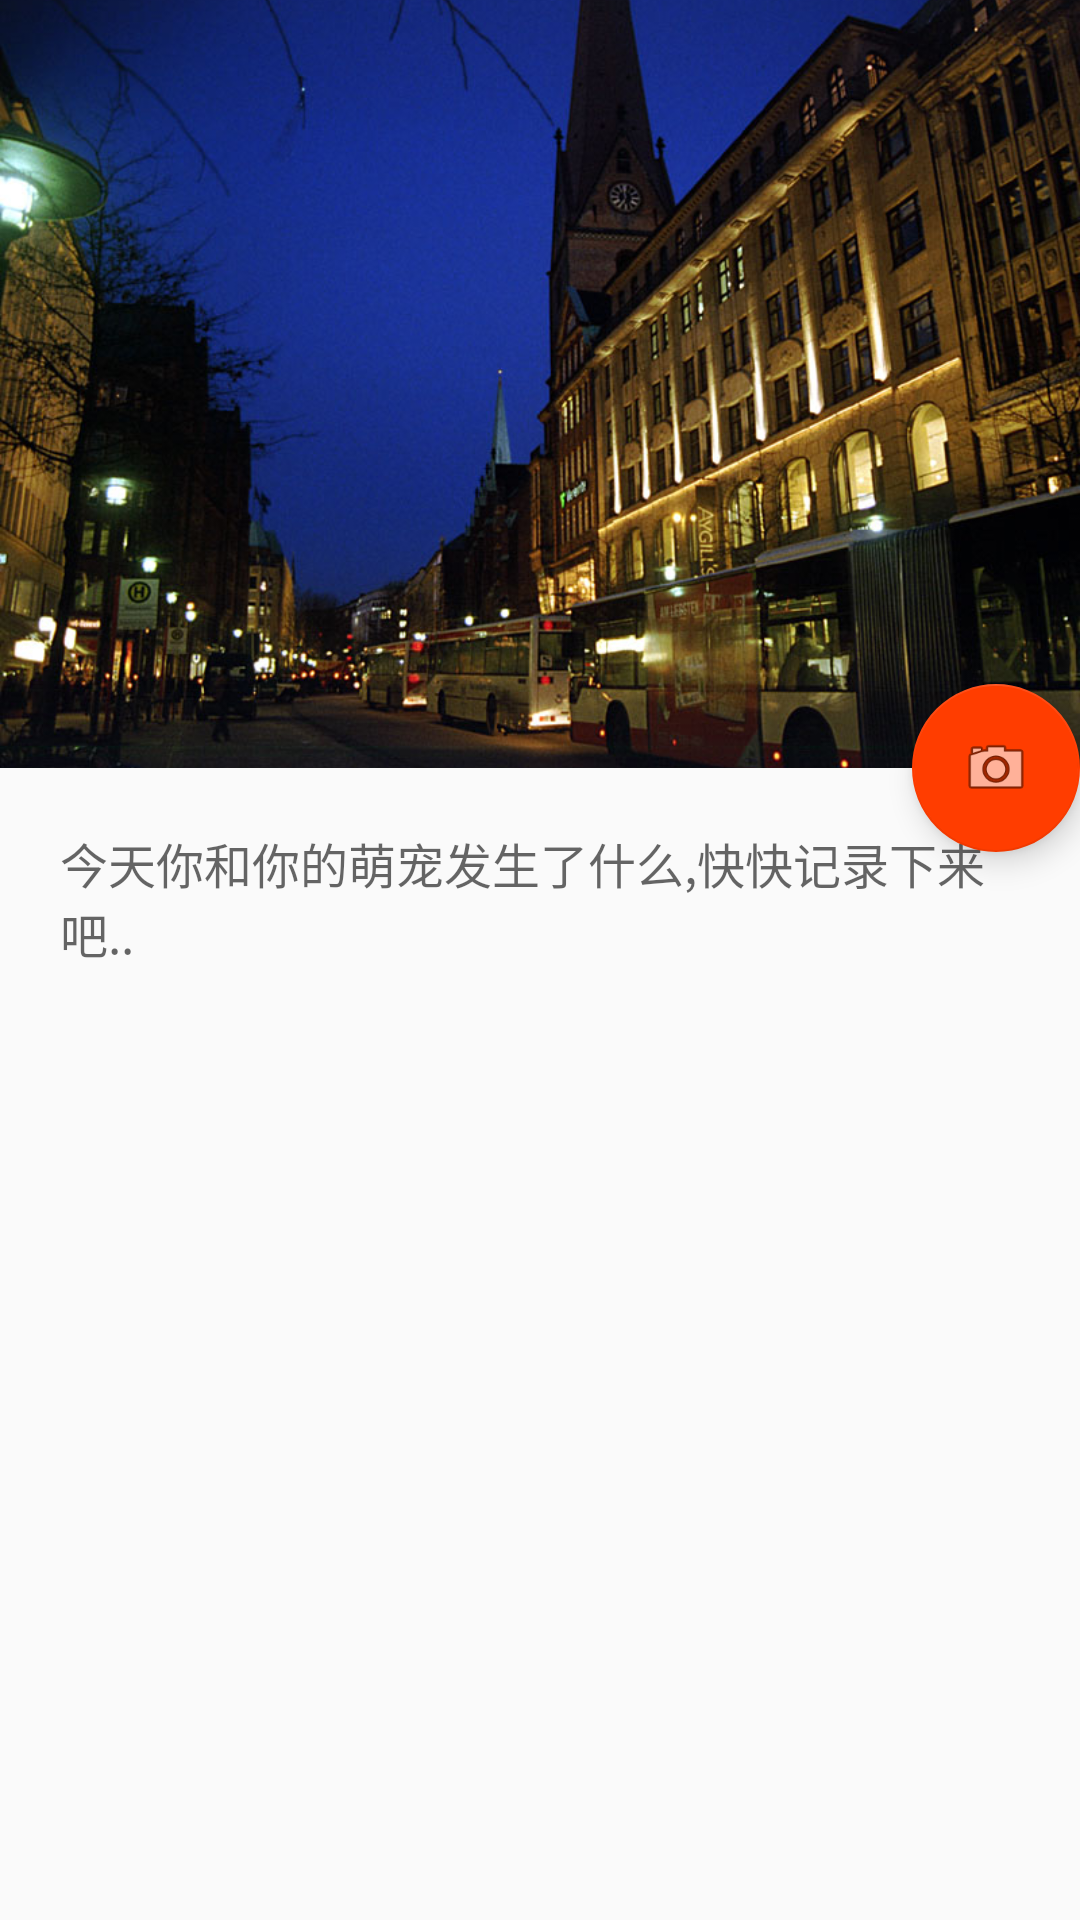

Where to tap for icons on this 1080×1920 app screen, as (x,y):
camera: (996,768)
